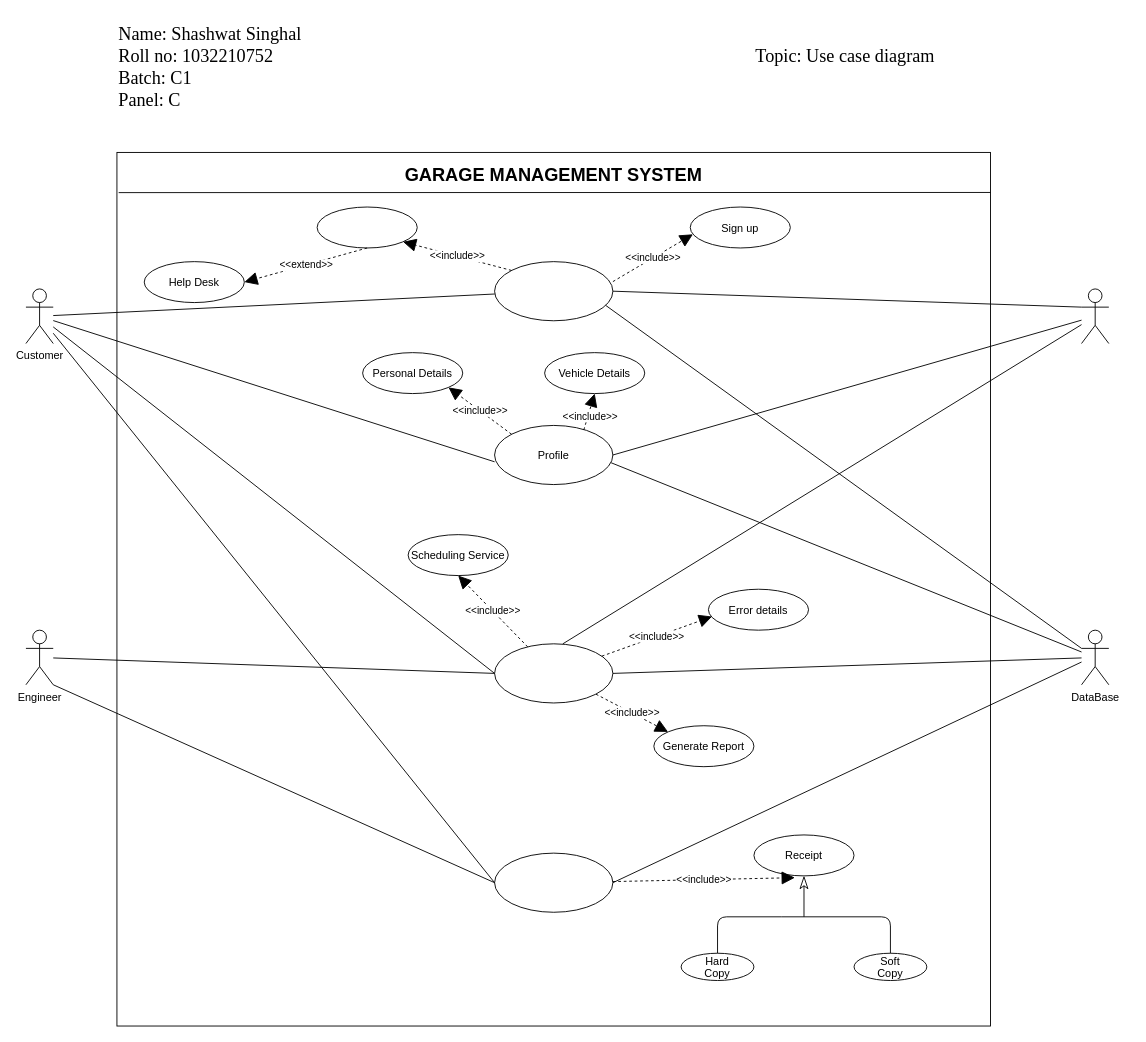
Some shapes in this 1146 by 1042 pixel diagram are drawn without their labels. Here are the shapes that lost their labels. From the top down, the centre of each, then its label:
(366,227): Login
(553,291): Registration
(1095,316): System Admin
(553,673): Service
(553,882): Payment
